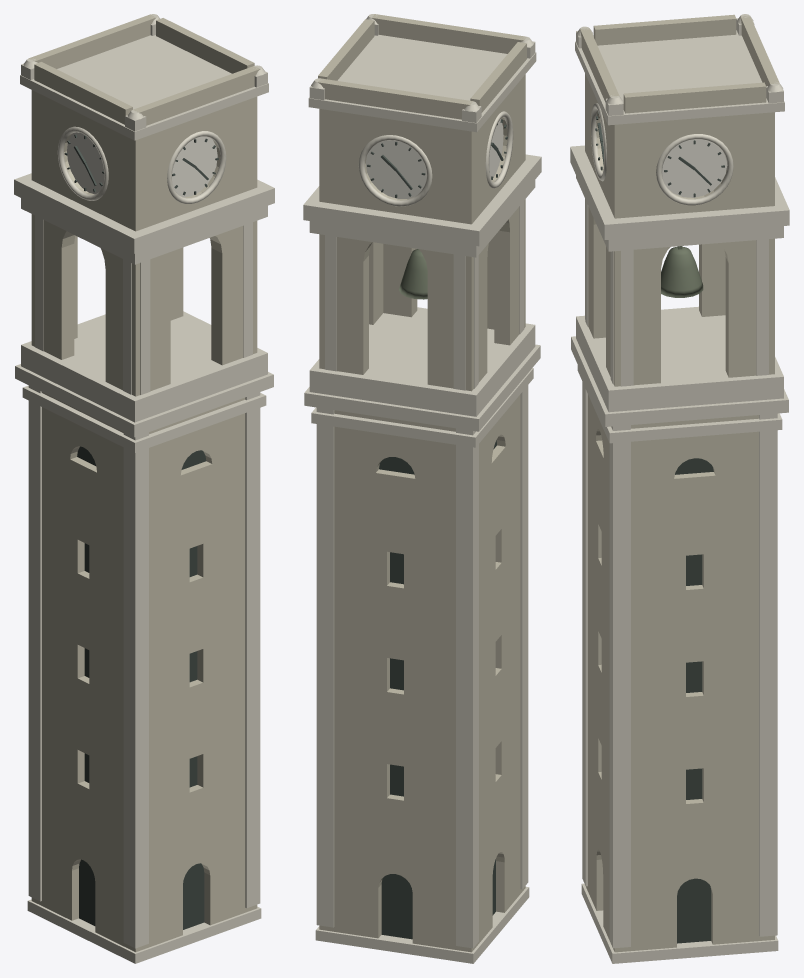
File: coimbra-university-tower-near.glb
3 views of the same model, side by side, from view 1: azimuth 30°, elevation 25°; view 2: azimuth 150°, elevation 25°; view 3: azimuth 270°, elevation 25° (orthographic).
Parts seen in each view (by area): view 1: coimbra-university-tower-0-stone, coimbra-university-tower-0-trim, coimbra-university-tower-0-shadow, coimbra-university-tower-0-clock; view 2: coimbra-university-tower-0-stone, coimbra-university-tower-0-trim, coimbra-university-tower-0-shadow, coimbra-university-tower-0-clock, coimbra-university-tower-0-bell; view 3: coimbra-university-tower-0-stone, coimbra-university-tower-0-trim, coimbra-university-tower-0-shadow, coimbra-university-tower-0-clock, coimbra-university-tower-0-bell.
Part boxes in pixels (x1=…): coimbra-university-tower-0-stone: x1=29, y1=14, x2=260, y2=952; coimbra-university-tower-0-trim: x1=14, y1=14, x2=274, y2=963; coimbra-university-tower-0-shadow: x1=77, y1=446, x2=206, y2=929; coimbra-university-tower-0-clock: x1=67, y1=132, x2=217, y2=197; coimbra-university-tower-0-stone: x1=317, y1=14, x2=526, y2=952; coimbra-university-tower-0-trim: x1=303, y1=14, x2=541, y2=963; coimbra-university-tower-0-shadow: x1=379, y1=440, x2=496, y2=939; coimbra-university-tower-0-clock: x1=365, y1=119, x2=503, y2=198; coimbra-university-tower-0-bell: x1=399, y1=249, x2=427, y2=299; coimbra-university-tower-0-stone: x1=580, y1=14, x2=779, y2=952; coimbra-university-tower-0-trim: x1=570, y1=14, x2=789, y2=963; coimbra-university-tower-0-shadow: x1=675, y1=458, x2=713, y2=943; coimbra-university-tower-0-clock: x1=600, y1=122, x2=727, y2=197; coimbra-university-tower-0-bell: x1=661, y1=246, x2=703, y2=297.
Size of the model in its own units: 7.81 by 34 by 7.81.
